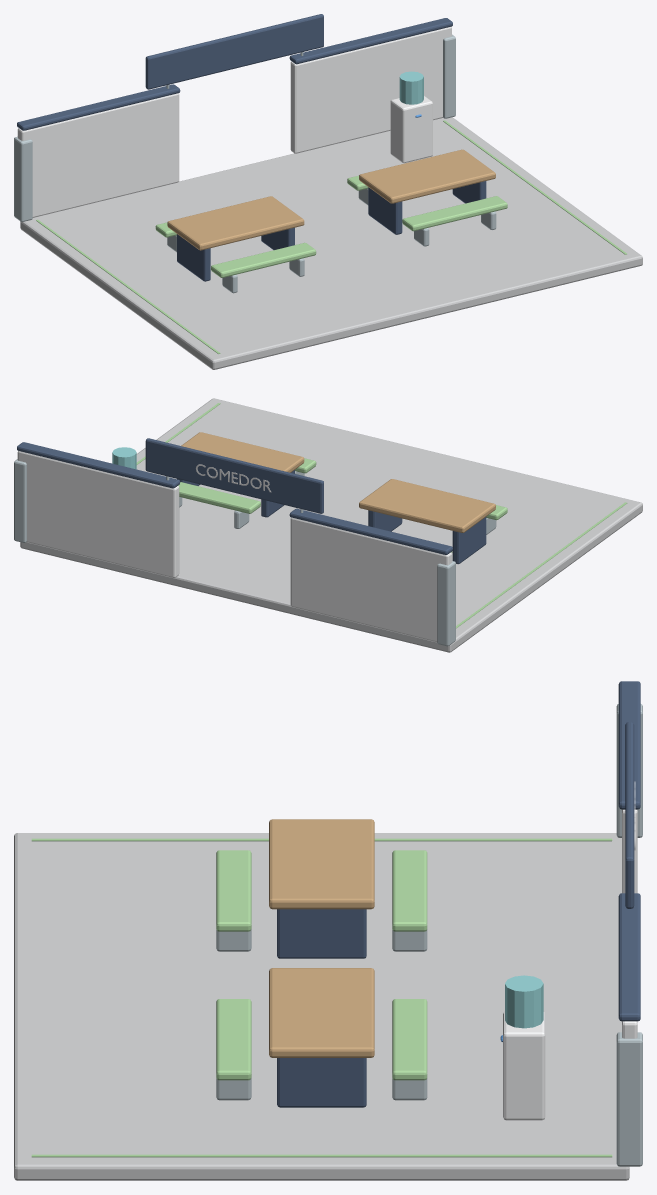
Rendered from zone-canteen.glb.
3 renders of one model, top to bottom at view 1: azimuth 30°, elevation 25°; view 2: azimuth 150°, elevation 25°; view 3: azimuth 270°, elevation 25°, orthographic. The views are drawn at different scales.
Visible parts, largest first — view 1: Floor.005, Back wall.005, Section plaque.005, lunch-b.001, lunch-a.001, Plaque support.005, Water station, Table support, bench-b.001, bench-d.001, Table support.002, Floor border.004 (+1 smaller); view 2: Floor.005, Back wall.005, Section plaque.005, lunch-b.001, Plaque support.005, lunch-a.001, Table support.002, bench-a.001, Floor border.004, Water bottle; view 3: Floor.005, lunch-b.001, lunch-a.001, Section plaque.005, Plaque support.005, Table support.002, Table support, Floor border.004, Water station, bench-b.001, bench-a.001, bench-c.001 (+7 smaller).
Boxes of the visible parts, left/top/right/bottom form: Floor.005: left=20, top=117, right=642, bottom=369; Back wall.005: left=17, top=26, right=451, bottom=217; Section plaque.005: left=17, top=14, right=452, bottom=130; lunch-b.001: left=167, top=196, right=304, bottom=250; lunch-a.001: left=359, top=149, right=495, bottom=203; Plaque support.005: left=14, top=34, right=455, bottom=221; Water station: left=390, top=96, right=432, bottom=163; Table support: left=368, top=181, right=486, bottom=234; bench-b.001: left=402, top=196, right=507, bottom=231; bench-d.001: left=211, top=242, right=316, bottom=277; Table support.002: left=177, top=227, right=294, bottom=281; Floor border.004: left=36, top=120, right=626, bottom=353; Floor.005: left=20, top=398, right=642, bottom=652; Back wall.005: left=17, top=451, right=451, bottom=641; Section plaque.005: left=17, top=438, right=452, bottom=554; lunch-b.001: left=359, top=479, right=495, bottom=532; Plaque support.005: left=14, top=459, right=455, bottom=646; lunch-a.001: left=181, top=432, right=304, bottom=472; Table support.002: left=368, top=510, right=486, bottom=564; bench-a.001: left=178, top=482, right=260, bottom=513; Floor border.004: left=136, top=403, right=627, bottom=628; Water bottle: left=112, top=447, right=136, bottom=469; Floor.005: left=14, top=833, right=629, bottom=1180; lunch-b.001: left=269, top=819, right=374, bottom=909; lunch-a.001: left=269, top=968, right=374, bottom=1057; Section plaque.005: left=618, top=681, right=640, bottom=1021; Plaque support.005: left=616, top=704, right=642, bottom=1166; Table support.002: left=277, top=909, right=366, bottom=958; Table support: left=277, top=1058, right=366, bottom=1107; Floor border.004: left=31, top=838, right=612, bottom=1157; Water station: left=503, top=1011, right=545, bottom=1120; bench-b.001: left=216, top=999, right=251, bottom=1080; bench-a.001: left=392, top=999, right=427, bottom=1080; bench-c.001: left=392, top=850, right=427, bottom=931.
Size of the model in its own units: 9.09 by 2.82 by 7.15.
